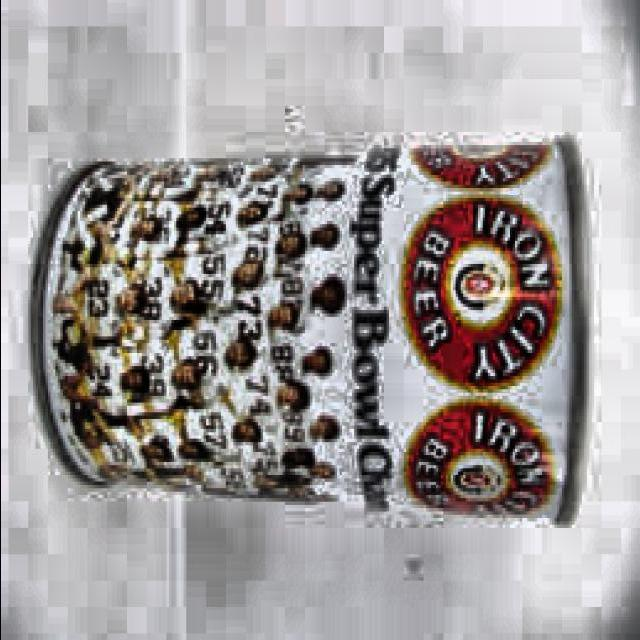litter: (26, 130, 594, 532)
